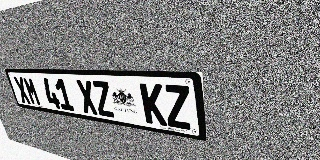1: (53, 79, 75, 111)
4: (41, 78, 62, 109)
K: (139, 83, 167, 126)
M: (22, 77, 42, 106)
X: (75, 80, 99, 115), (13, 76, 32, 104)
Z: (163, 84, 192, 130), (91, 81, 116, 118)
